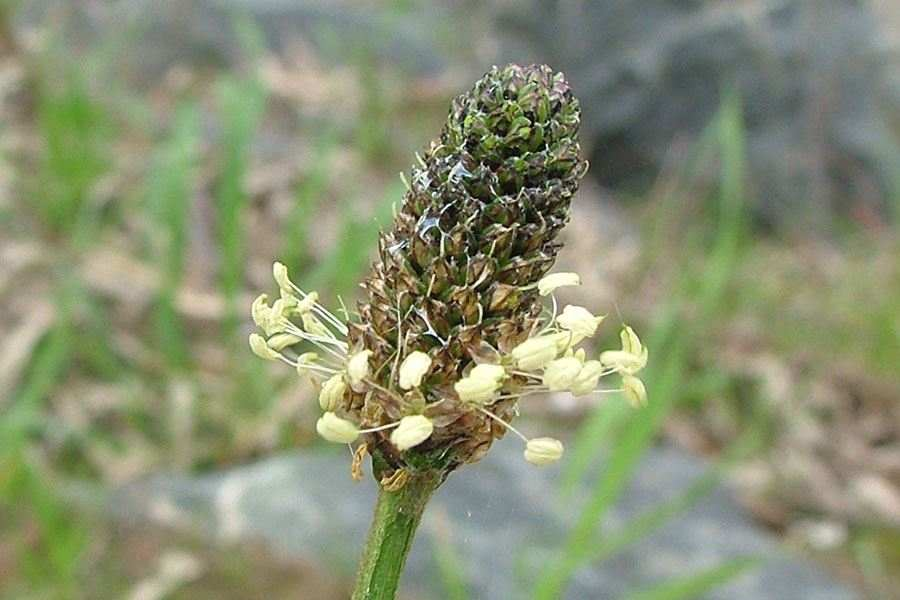buckhorn plantain: (282, 40, 652, 600)
